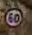limite 60: (4, 8, 22, 27)
